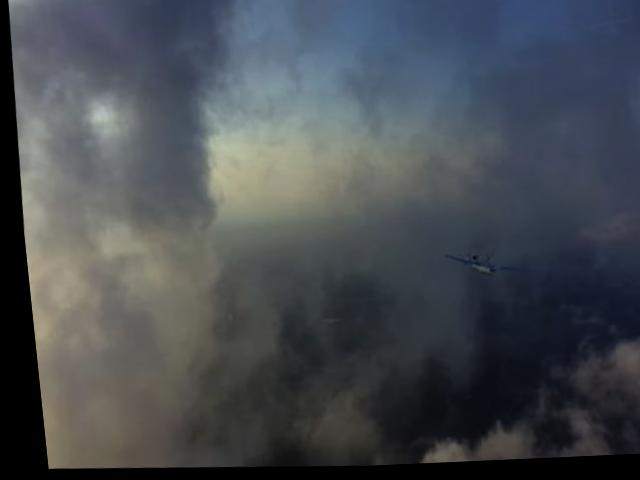uav: (437, 249, 518, 286)
